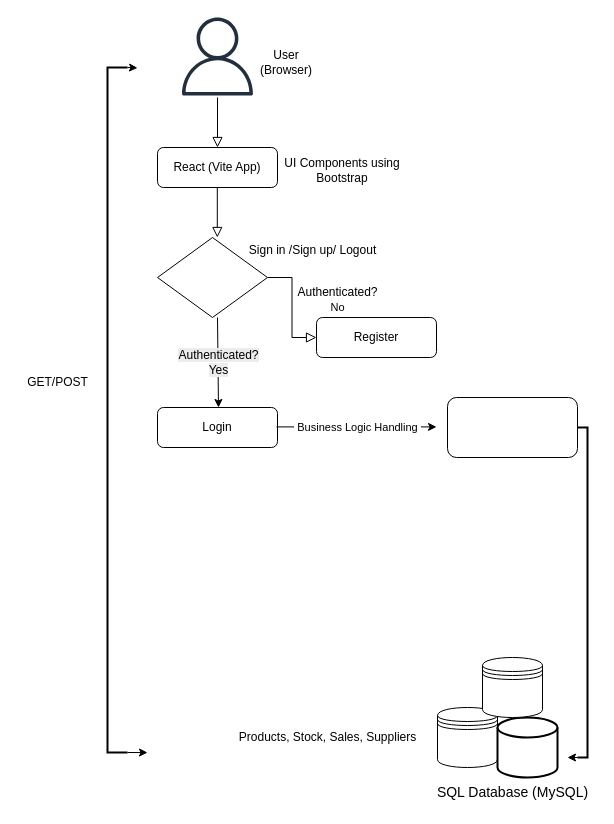
The diagram is 614 pixels wide and 824 high, and some of its shapes have lost their labels. The box of each missing label's shape, as (x1, y1, x2, y2) in pixels:
Backend API Layer (Node): (446, 396, 578, 458)
Firebase Auth Module: (156, 236, 268, 318)
